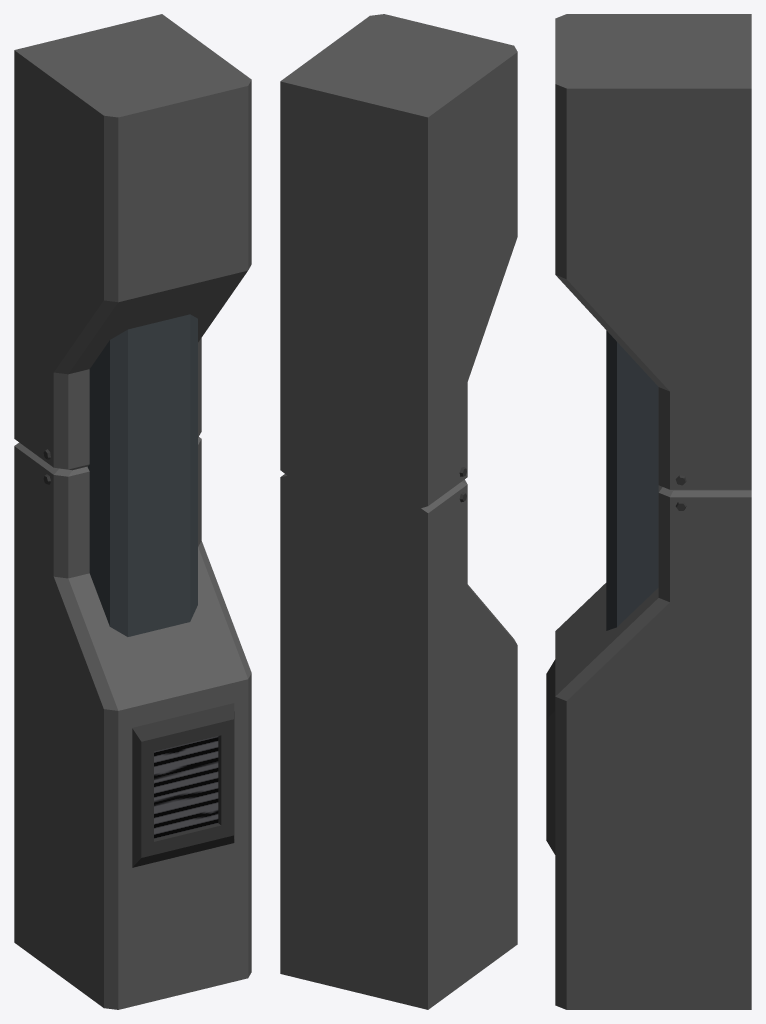
File: SM_Bld_Wall_Pillar_03.fbx
3 views of the same model, side by side, from view 1: azimuth 30°, elevation 25°; view 2: azimuth 150°, elevation 25°; view 3: azimuth 270°, elevation 25° (orthographic). The views are drawn at different scales.
Visible parts, largest first — view 1: SM_Bld_Wall_Pillar_03; view 2: SM_Bld_Wall_Pillar_03; view 3: SM_Bld_Wall_Pillar_03.
Boxes of the visible parts, x1,y1,x2,y2 form: SM_Bld_Wall_Pillar_03: (14,14,251,1009); SM_Bld_Wall_Pillar_03: (280,14,517,1009); SM_Bld_Wall_Pillar_03: (546,14,751,1009).
Bounding box in the file's own units: 91.37 × 509 × 103.
Materials: 1 (1 with a texture image).
